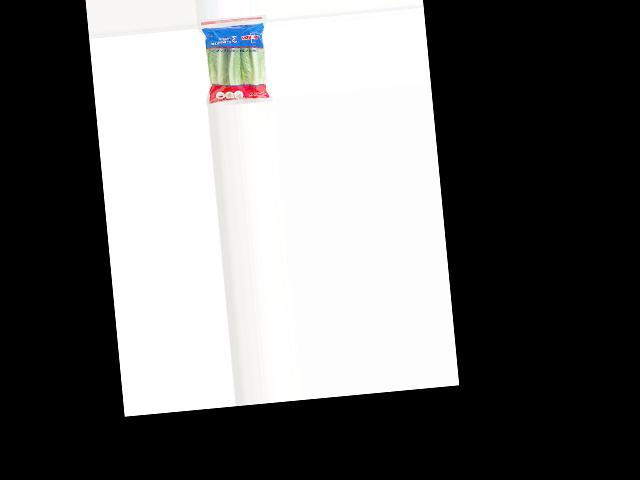lettuce: (200, 20, 271, 107)
